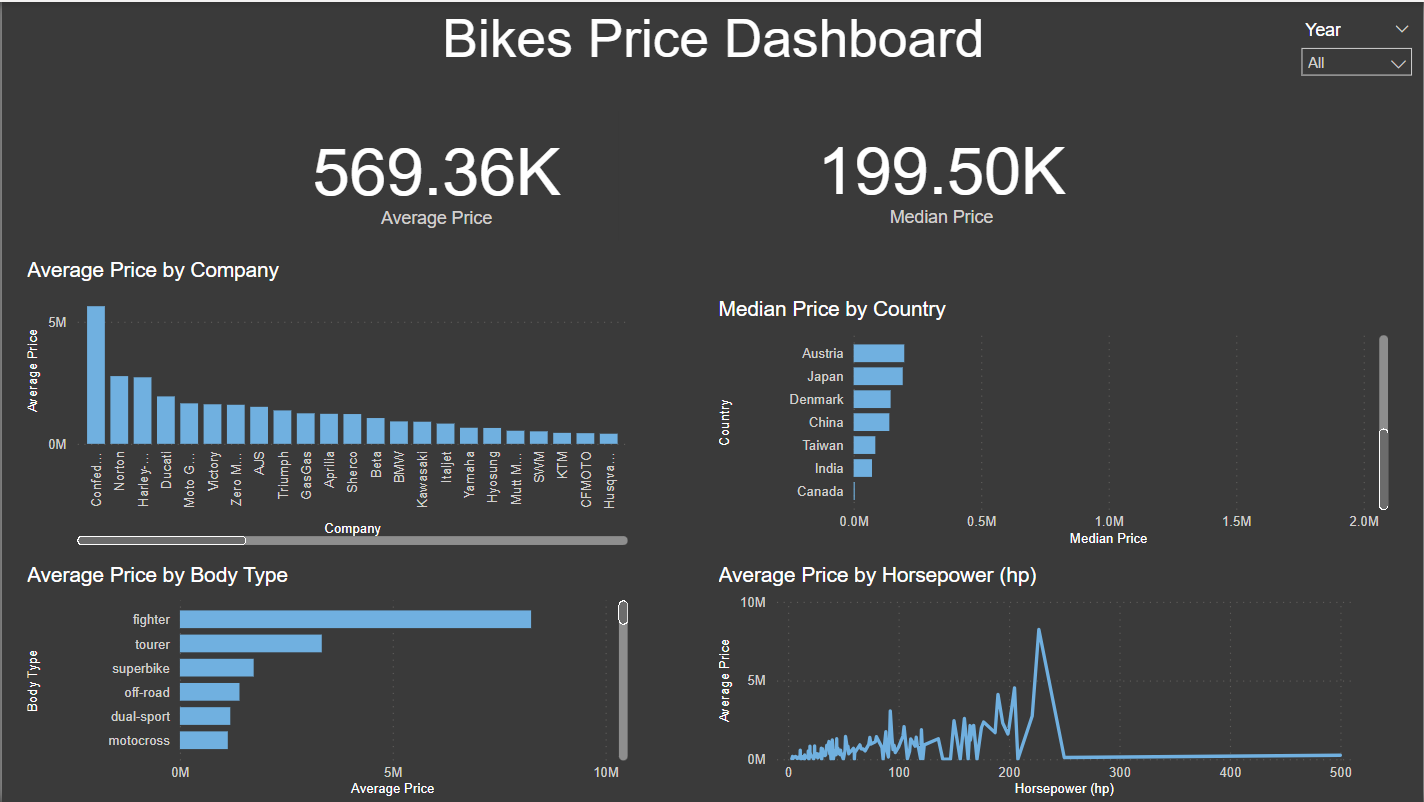

This screenshot's page, from the dashboard's own definition file:
{"tool":"powerbi","page":{"name":"Page 1","canvas":[1280,720],"ordinal":0},"visuals":[{"type":"textbox","box":[391.9,0,520.5,81.7],"z":0},{"type":"card","fields":{"Values":["Key Measures.Average Price"]},"box":[227,98.3,328.3,116.5],"z":1000},{"type":"card","fields":{"Values":["Key Measures.Median Price"]},"box":[667.2,81.7,357.1,149.8],"z":2000},{"type":"clusteredColumnChart","fields":{"Category":["bikes_data_cleaned.Company"],"Y":["Key Measures.Average Price"]},"box":[18.2,231.5,550.7,263.3],"z":3000},{"type":"clusteredBarChart","fields":{"Category":["bikes_data_cleaned.Country"],"Y":["Key Measures.Median Price"]},"box":[640,266.3,612.8,228.5],"z":4000},{"type":"slicer","fields":{"Values":["bikes_data_cleaned.Year"]},"box":[1160.5,10.6,119.5,71.1],"z":5000},{"type":"barChart","fields":{"Category":["bikes_data_cleaned.Body Type"],"Y":["Key Measures.Average Price"]},"box":[18.2,504.8,550.7,215.2],"z":5001},{"type":"lineChart","fields":{"Category":["bikes_data_cleaned.Horsepower (hp)"],"Y":["Key Measures.Average Price"]},"box":[640,505.3,581,214.8],"z":5002}]}

Visuals, with their boxes in screenshot pixels (x1, y1, x2, y2), scaled from the page's 1280x720 canvas onto the 1424x802 screenshot:
textbox: [left=436, top=0, right=1015, bottom=91]
card - Key Measures.Average Price: [left=253, top=109, right=618, bottom=239]
card - Key Measures.Median Price: [left=742, top=91, right=1140, bottom=258]
clusteredColumnChart - bikes_data_cleaned.Company x Key Measures.Average Price: [left=20, top=258, right=633, bottom=551]
clusteredBarChart - bikes_data_cleaned.Country x Key Measures.Median Price: [left=712, top=297, right=1394, bottom=551]
slicer - bikes_data_cleaned.Year: [left=1291, top=12, right=1423, bottom=91]
barChart - bikes_data_cleaned.Body Type x Key Measures.Average Price: [left=20, top=562, right=633, bottom=801]
lineChart - bikes_data_cleaned.Horsepower (hp) x Key Measures.Average Price: [left=712, top=563, right=1358, bottom=801]
